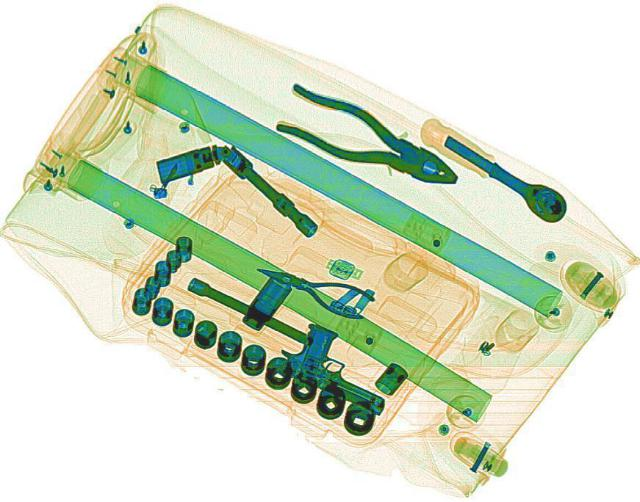Gun: (266, 317, 418, 414)
Pliers: (259, 77, 475, 200), (244, 251, 378, 321)
